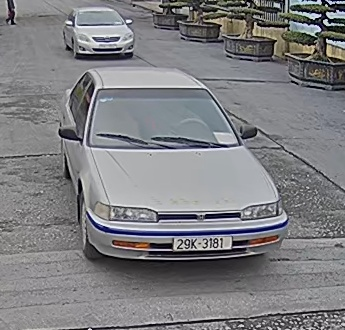vehicle plate: (174, 234, 235, 254)
